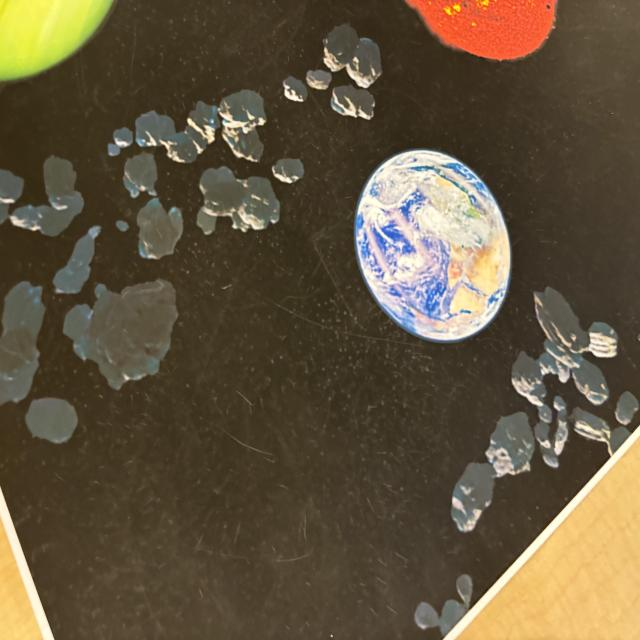Asteroids: (1, 24, 372, 430), (421, 288, 633, 620)
Earth: (352, 145, 514, 341)
Saturn: (0, 0, 126, 78)
Sun: (399, 0, 565, 65)
